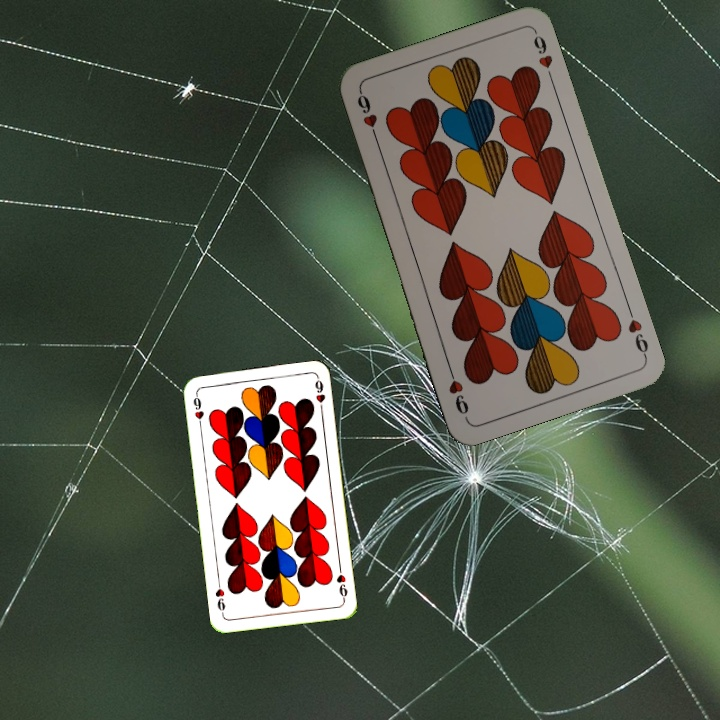H9: (353, 87, 381, 145), (624, 315, 651, 361), (332, 562, 350, 603), (189, 389, 206, 430)
